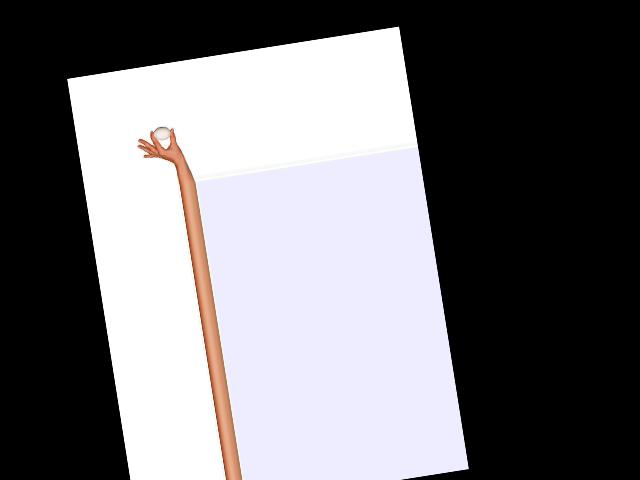egg: (152, 125, 171, 141)
